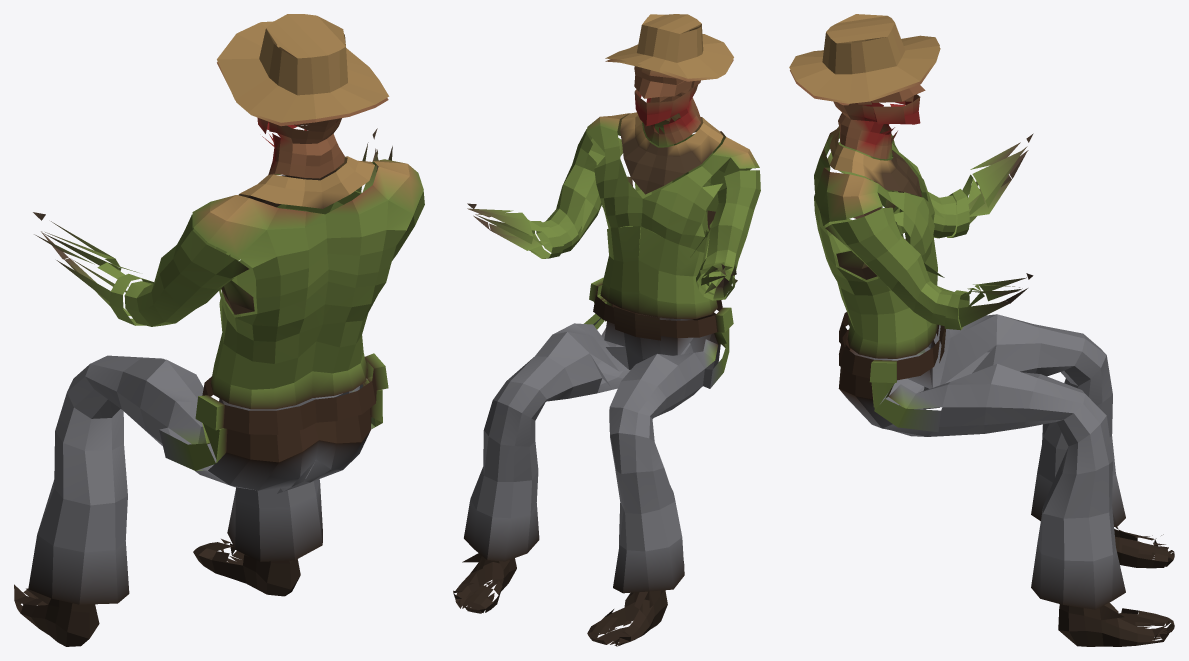
Rendered from man_3_drive.fbx.
The picture shows the model from 3 angles, left to right: view 1: azimuth 30°, elevation 25°; view 2: azimuth 150°, elevation 25°; view 3: azimuth 270°, elevation 25°; orthographic projection. The views are drawn at different scales.
Visible parts, largest first — view 1: cowboy; view 2: cowboy; view 3: cowboy.
Part boxes in pixels (x1,y1,x2,y2): cowboy: (14,14,424,646); cowboy: (453,14,760,646); cowboy: (789,14,1174,646).
Bounding box in the file's own units: 0.4327 × 0.7852 × 0.4748.
